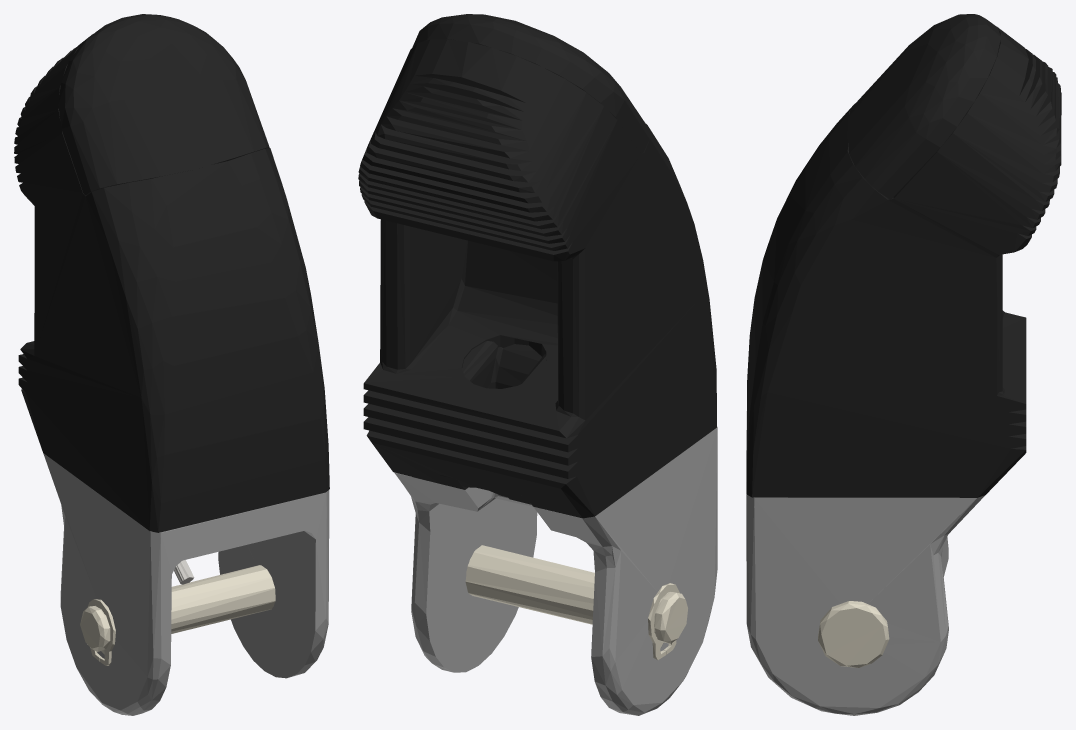
Rendered from if_distal.dae.
The picture shows the model from 3 angles, left to right: view 1: azimuth 30°, elevation 25°; view 2: azimuth 150°, elevation 25°; view 3: azimuth 270°, elevation 25°; orthographic projection. The views are drawn at different scales.
Visible parts, largest first — view 1: SIH_right_026, SIH_right_010, SIH_right_021, SIH_right_020; view 2: SIH_right_026, SIH_right_010, SIH_right_020, SIH_right_021; view 3: SIH_right_026, SIH_right_010, SIH_right_021, SIH_right_020.
Boxes of the visible parts, x1,y1,x2,y2 form: SIH_right_026: (14,34,329,532); SIH_right_010: (43,453,329,715); SIH_right_021: (58,14,269,195); SIH_right_020: (80,565,275,665); SIH_right_026: (358,39,716,518); SIH_right_010: (394,426,717,715); SIH_right_020: (465,545,687,659); SIH_right_021: (412,14,649,153); SIH_right_026: (746,27,1061,497); SIH_right_010: (746,411,985,715); SIH_right_021: (847,14,1000,199); SIH_right_020: (818,601,889,667).
Bounding box in the file's own units: 20.02 × 26.46 × 60.11.
